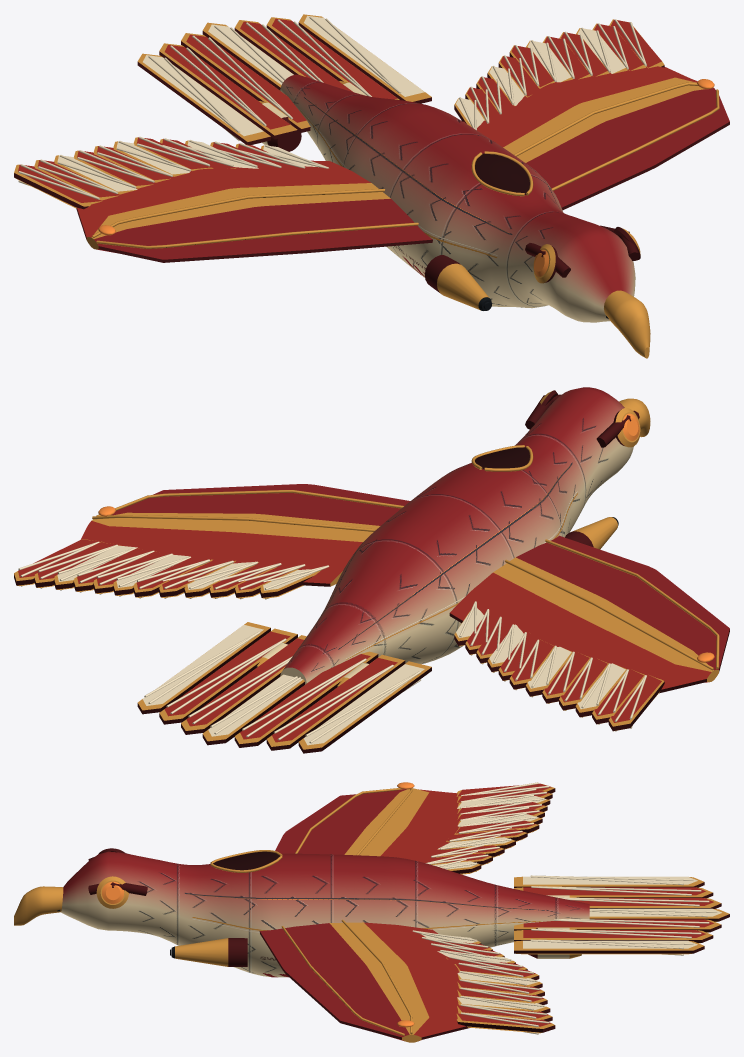
The picture shows the model from 3 angles, top to bottom: view 1: azimuth 30°, elevation 25°; view 2: azimuth 150°, elevation 25°; view 3: azimuth 270°, elevation 25°; orthographic projection. The views are drawn at different scales.
Parts seen in each view (by area): view 1: shrike_hull; view 2: shrike_hull; view 3: shrike_hull.
Part boxes in pixels (bbox=[...]): shrike_hull: bbox=[14, 14, 729, 358]; shrike_hull: bbox=[14, 387, 729, 753]; shrike_hull: bbox=[14, 782, 729, 1042].
Bounding box in the file's own units: 13.49 × 2.96 × 16.5.
1 material, 1 textured.
